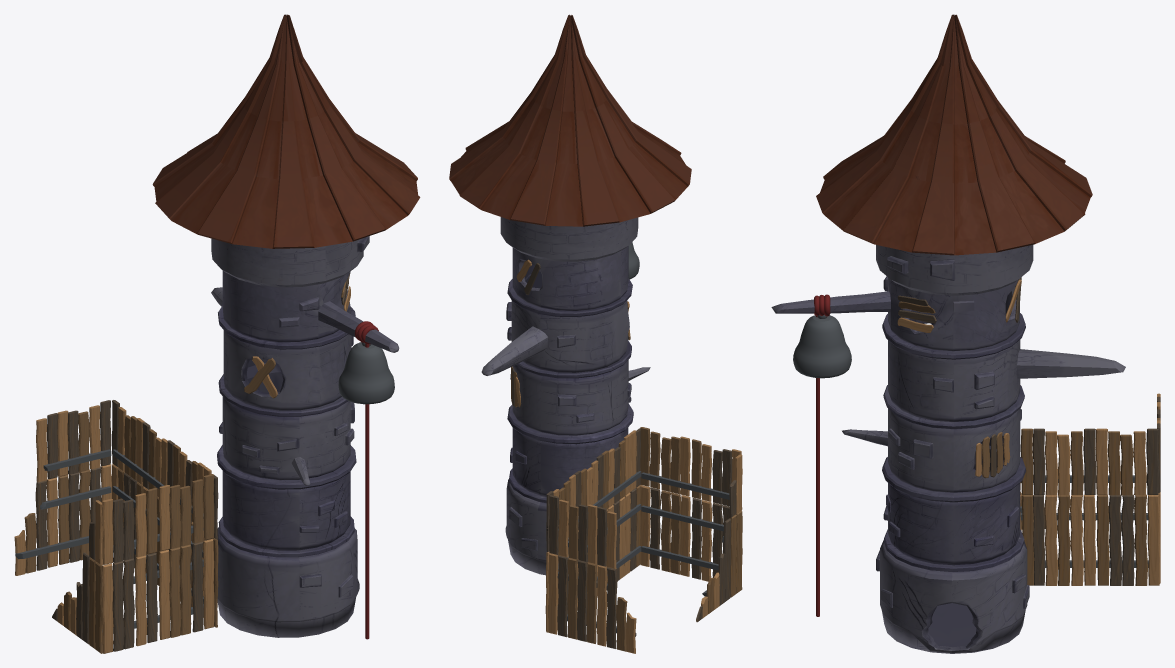
Rendered from Tower.fbx.
3 views of the same model, side by side, from view 1: azimuth 30°, elevation 25°; view 2: azimuth 150°, elevation 25°; view 3: azimuth 270°, elevation 25° (orthographic). The views are drawn at different scales.
Visible parts, largest first — view 1: Tower, Fence, Bell, Rope_ragdoll; view 2: Tower, Fence; view 3: Tower, Fence, Bell, Rope_ragdoll.
Boxes of the visible parts, x1,y1,x2,y2 form: Tower: (152, 14, 420, 637); Fence: (14, 400, 218, 653); Bell: (338, 342, 394, 404); Rope_ragdoll: (365, 343, 369, 639); Tower: (449, 14, 691, 575); Fence: (545, 427, 742, 653); Tower: (771, 14, 1125, 653); Fence: (1020, 393, 1160, 585); Bell: (793, 315, 851, 378); Rope_ragdoll: (816, 316, 819, 616).
Bounding box in the file's own units: 332 × 619 × 358.
